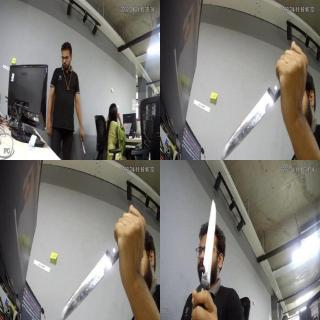knife: (61, 242, 111, 320), (221, 86, 275, 152), (197, 198, 227, 298), (79, 134, 87, 154)
